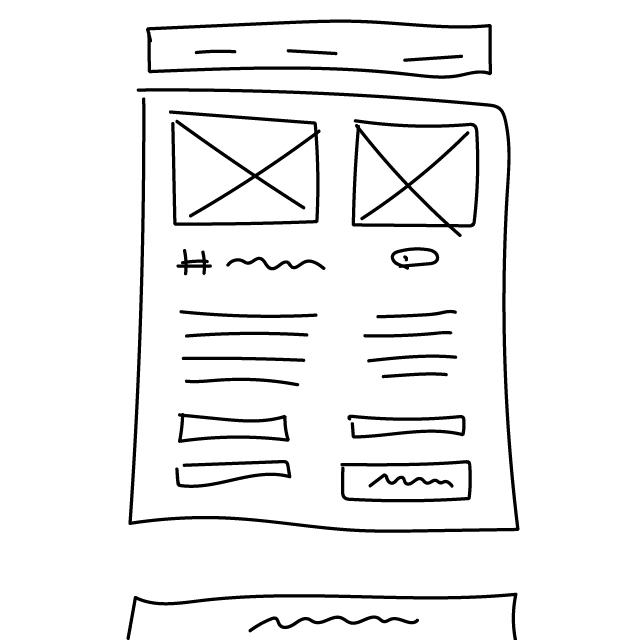button: (339, 458, 475, 506)
checkbox: (388, 246, 446, 275)
container: (124, 87, 535, 534)
footer: (115, 577, 526, 640)
frame: (169, 110, 324, 231), (350, 116, 484, 238)
heading: (178, 241, 331, 282)
input: (172, 409, 299, 449), (347, 410, 468, 443), (173, 460, 296, 491)
nav: (141, 18, 497, 81)
text: (169, 301, 330, 396), (360, 304, 466, 396)
